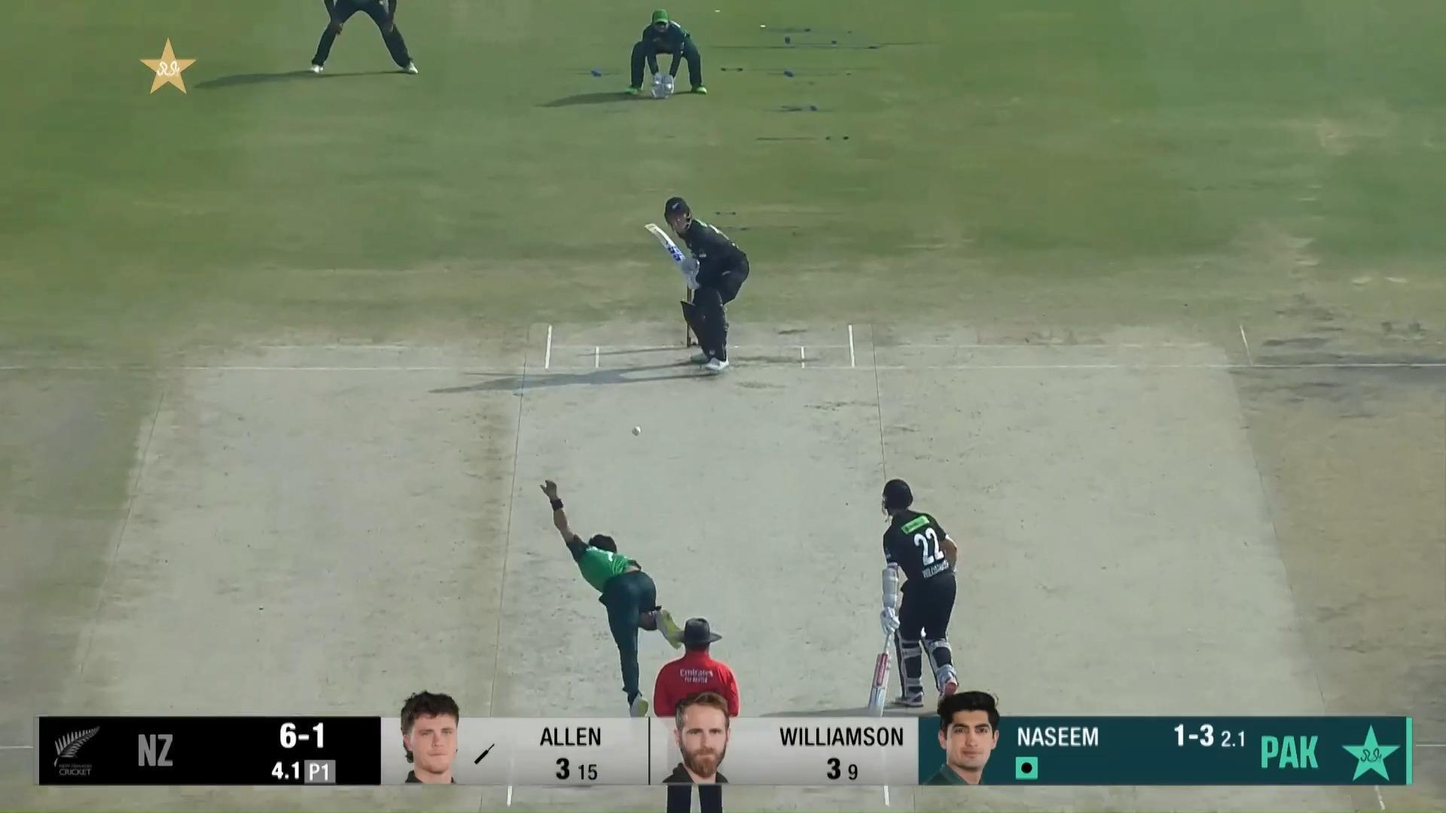BM 1: (644, 197, 749, 373)
BO: (539, 477, 684, 716)
